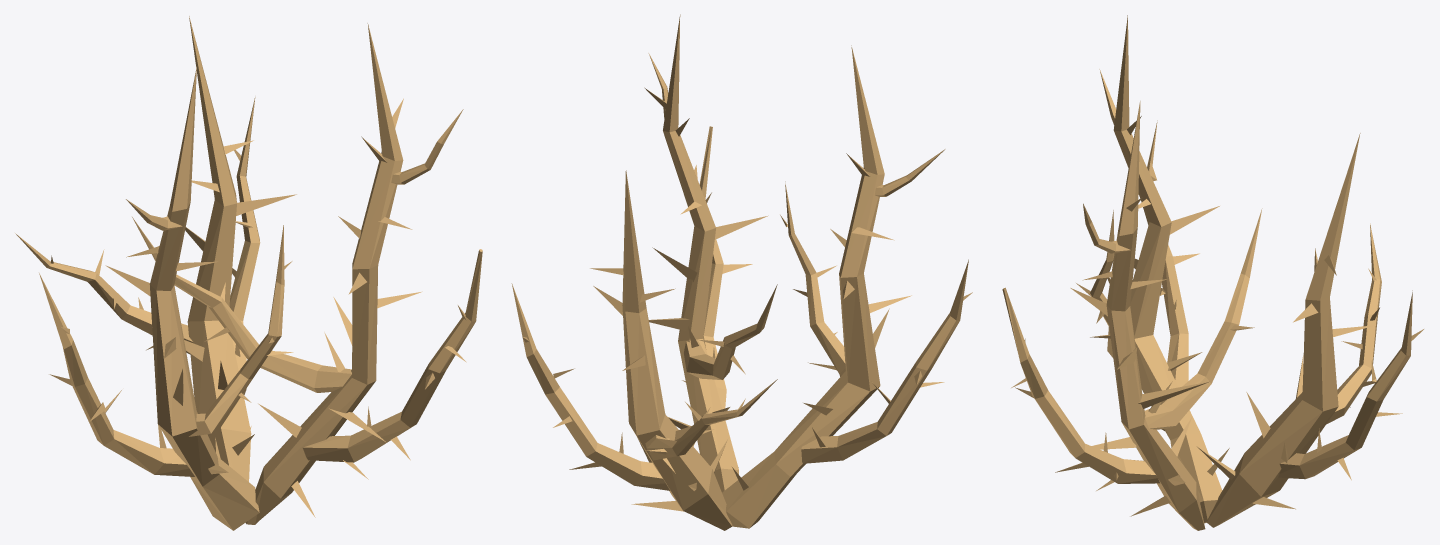
File: desert_shrub.obj
The picture shows the model from 3 angles, left to right: view 1: azimuth 30°, elevation 25°; view 2: azimuth 150°, elevation 25°; view 3: azimuth 270°, elevation 25°; orthographic projection. The views are drawn at different scales.
Bounding box in the file's own units: 3.61 × 4.56 × 3.7.
